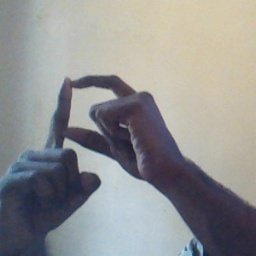D: (34, 68, 144, 194)
